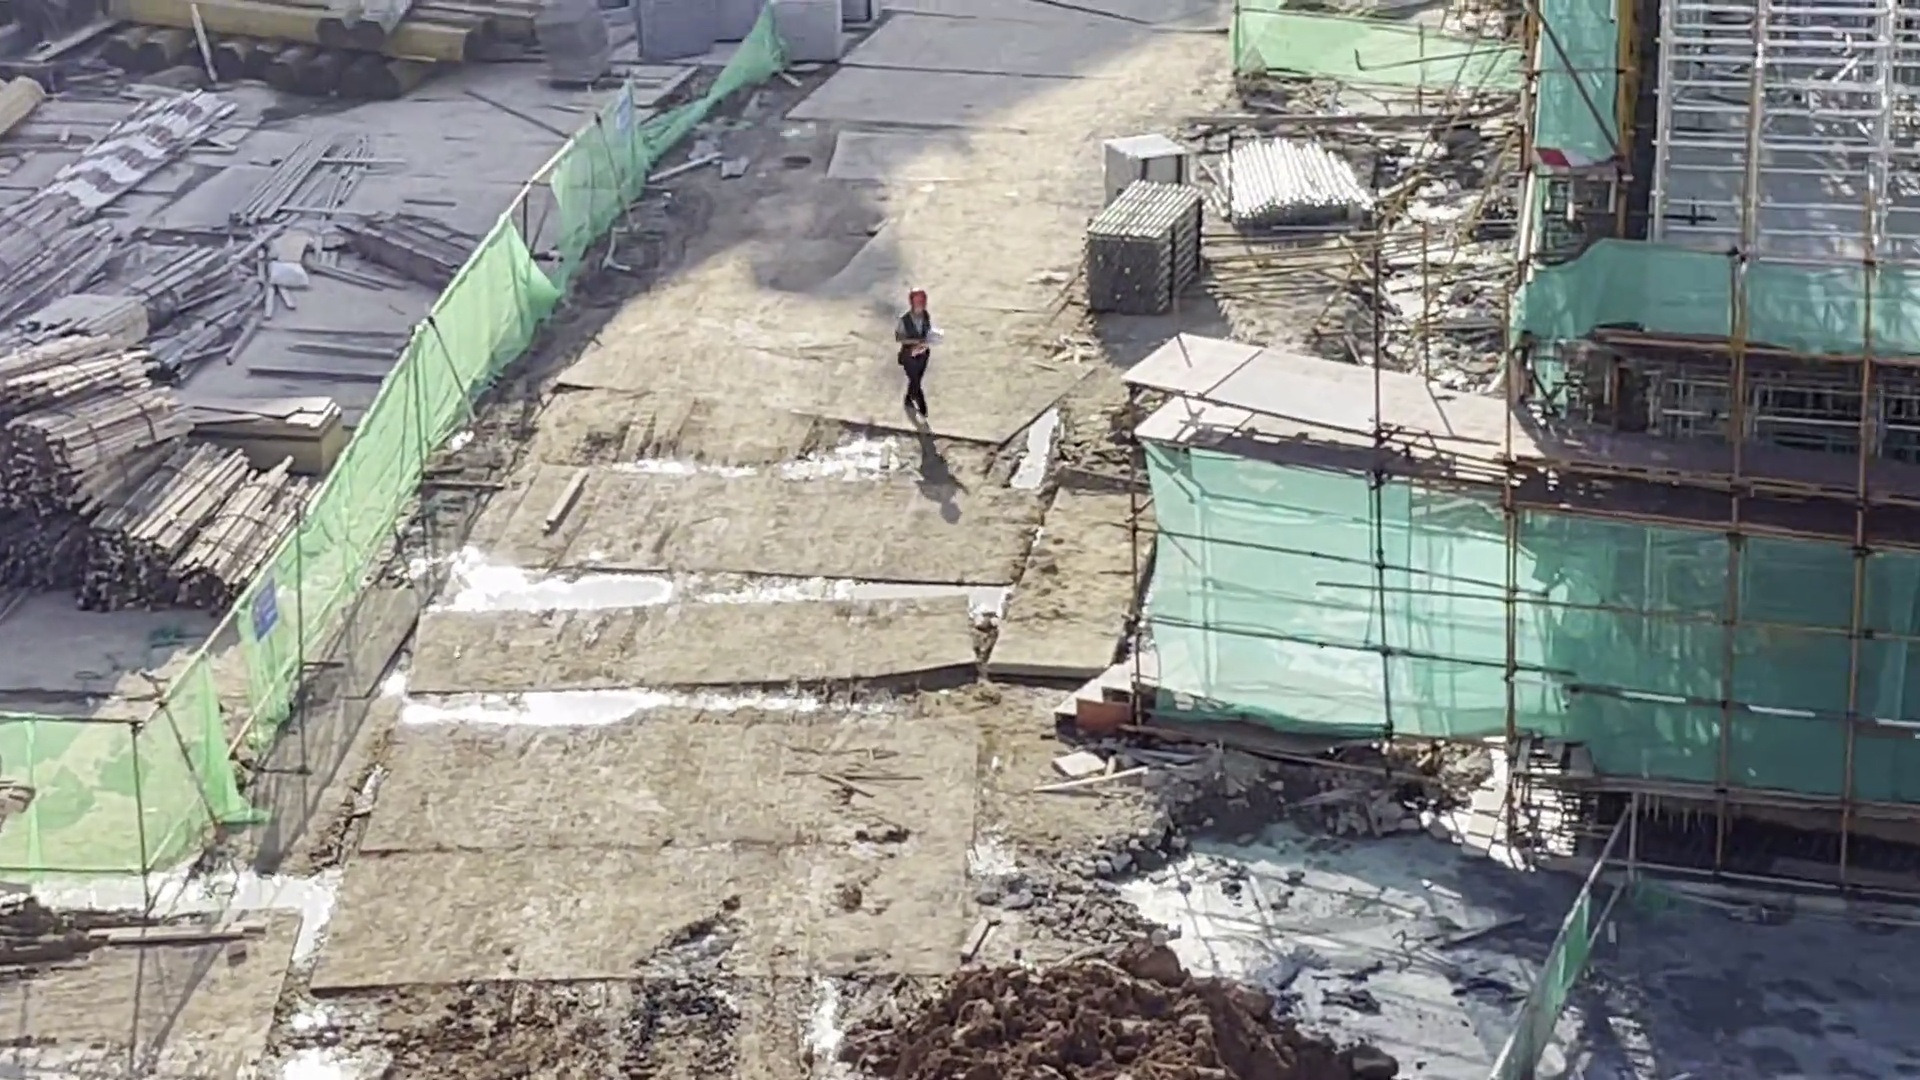board: (197, 394, 343, 472)
helmet: (909, 288, 927, 312)
person: (892, 280, 937, 420)
scaffold: (1077, 180, 1206, 311), (1226, 146, 1373, 228), (1107, 128, 1191, 186)
wood: (4, 334, 190, 615), (86, 443, 231, 612), (1, 192, 113, 320), (350, 200, 454, 286), (152, 232, 229, 315)
